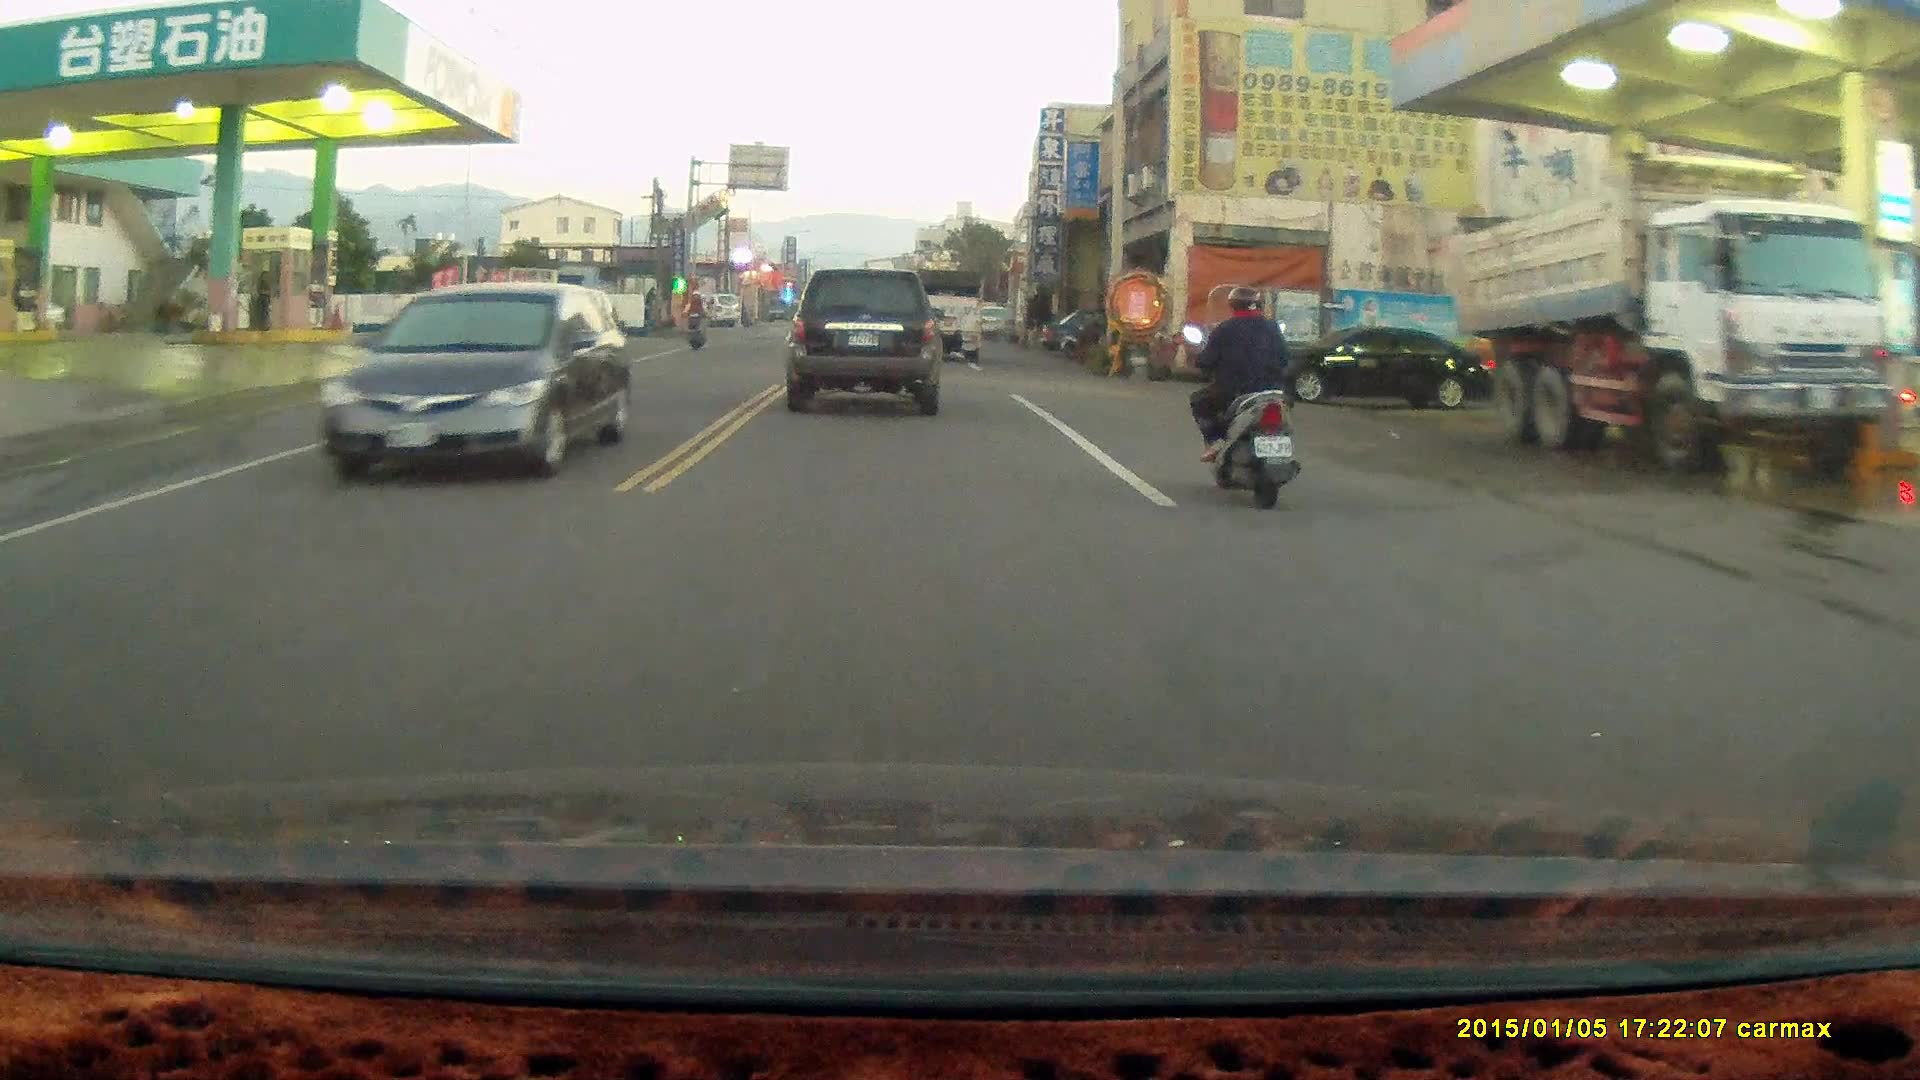rider: (1180, 278, 1300, 509), (680, 286, 709, 349)
vehicle: (1448, 152, 1902, 470), (323, 284, 632, 492), (786, 265, 944, 416), (1282, 324, 1483, 410), (908, 267, 986, 362)
